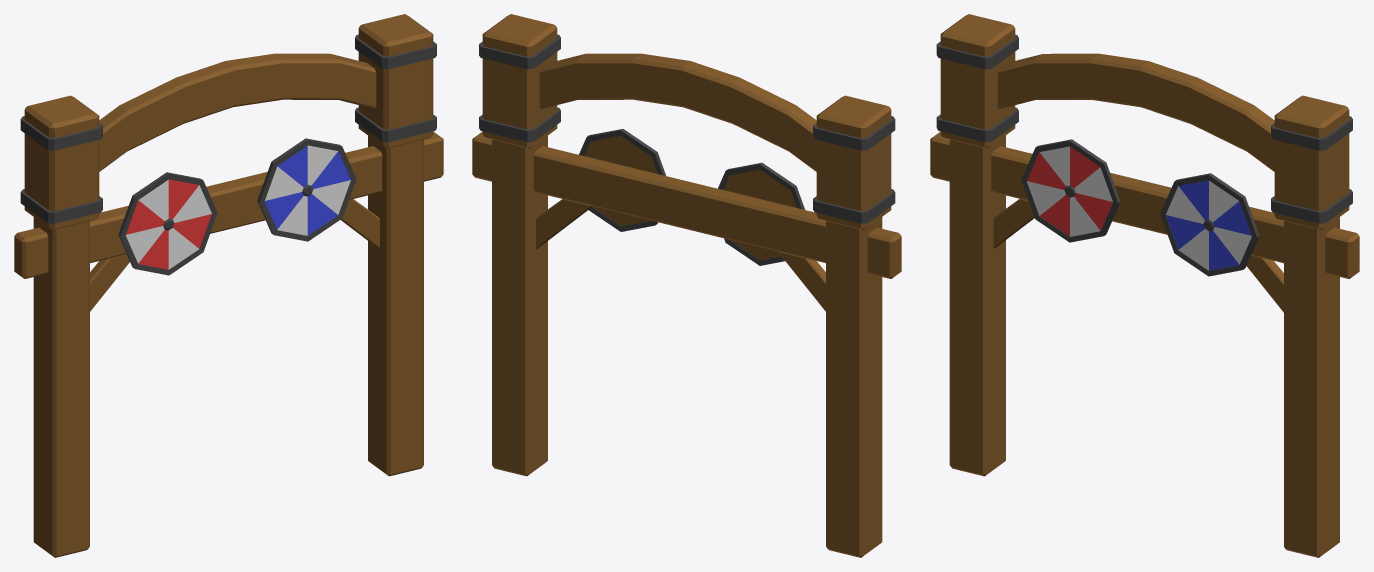
File: viking borg2.fbx
The picture shows the model from 3 angles, left to right: view 1: azimuth 30°, elevation 25°; view 2: azimuth 150°, elevation 25°; view 3: azimuth 330°, elevation 25°; orthographic projection.
Visible parts, largest first — view 1: Cube.007; view 2: Cube.007; view 3: Cube.007.
Boxes of the visible parts, x1,y1,x2,y2 form: Cube.007: [14, 14, 443, 557]; Cube.007: [472, 14, 901, 557]; Cube.007: [930, 14, 1359, 557].
Size of the model in its own units: 300 by 301 by 39.22.
